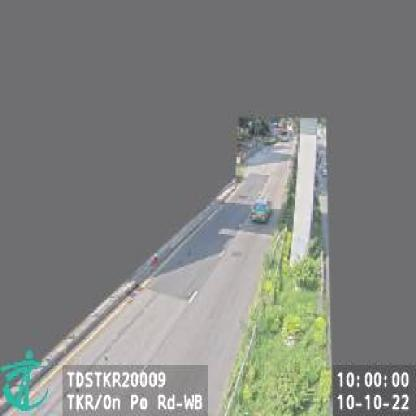Car: (251, 198, 273, 224)
